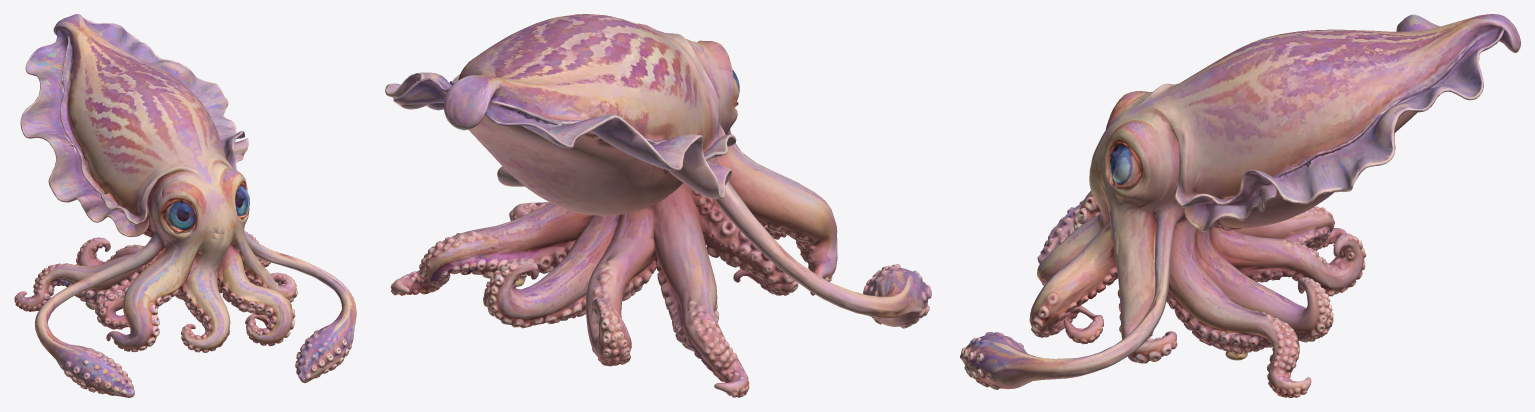
The model's file is figurine-kraken.glb.
3 renders of one model, left to right at view 1: azimuth 30°, elevation 25°; view 2: azimuth 150°, elevation 25°; view 3: azimuth 270°, elevation 25°, orthographic. The views are drawn at different scales.
Visible parts, largest first — view 1: tripo_node_cf0f9f28-966b-464f-86bb-c063230b8007; view 2: tripo_node_cf0f9f28-966b-464f-86bb-c063230b8007; view 3: tripo_node_cf0f9f28-966b-464f-86bb-c063230b8007.
Boxes of the visible parts, left/top/right/bottom form: tripo_node_cf0f9f28-966b-464f-86bb-c063230b8007: left=14, top=14, right=356, bottom=397; tripo_node_cf0f9f28-966b-464f-86bb-c063230b8007: left=385, top=14, right=931, bottom=397; tripo_node_cf0f9f28-966b-464f-86bb-c063230b8007: left=960, top=14, right=1520, bottom=397.
Size of the model in its own units: 0.7696 by 0.6226 by 0.9798.
Materials: 1 (1 with a texture image).
